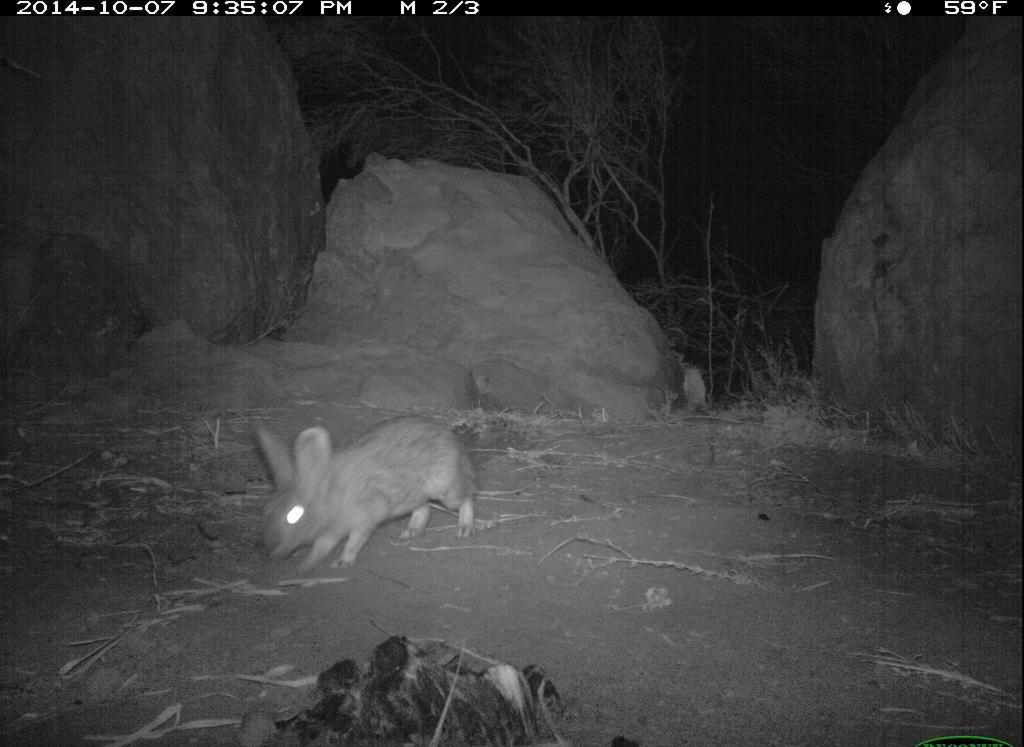rabbit: (249, 410, 487, 578)
